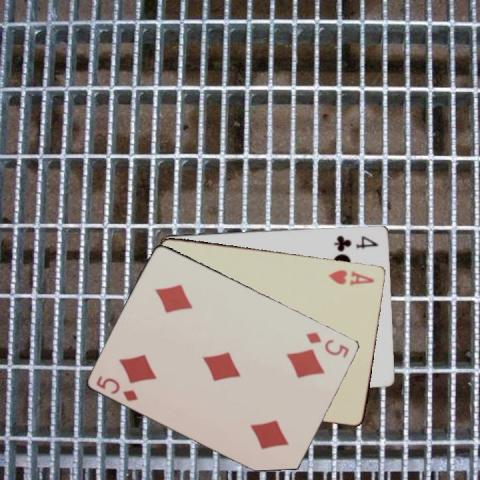4c: (331, 232, 380, 251)
5d: (303, 329, 351, 360), (93, 372, 140, 403)
Ah: (326, 266, 376, 287)
